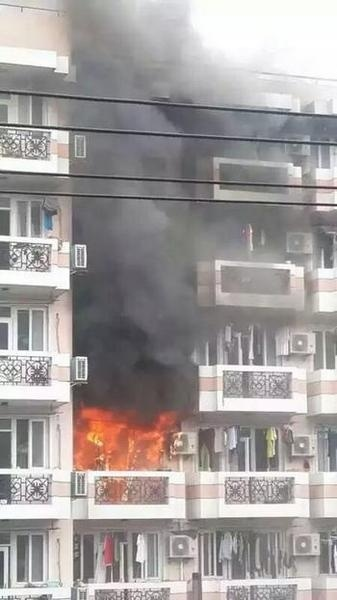fire: (75, 403, 181, 466)
